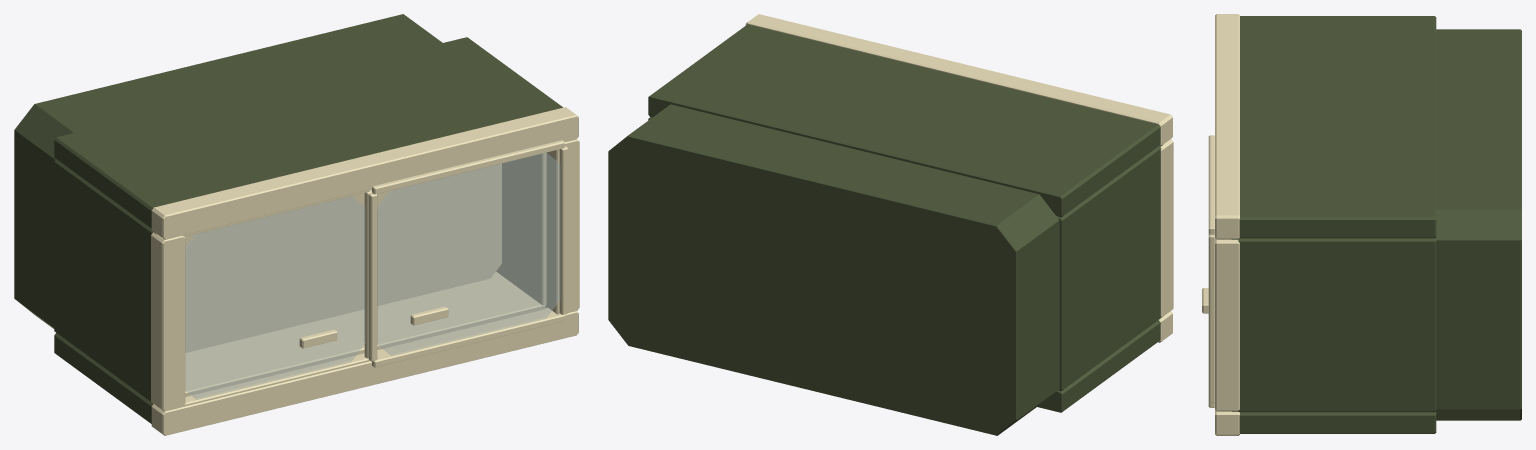
File: fixture_08_glass_top_freezer.glb
3 views of the same model, side by side, from view 1: azimuth 30°, elevation 25°; view 2: azimuth 150°, elevation 25°; view 3: azimuth 270°, elevation 25° (orthographic).
Parts seen in each view (by area): view 1: fixture_08_glass_top_freezer; view 2: fixture_08_glass_top_freezer; view 3: fixture_08_glass_top_freezer.
Boxes of the visible parts, x1=… form: fixture_08_glass_top_freezer: x1=14, y1=14, x2=579, y2=435; fixture_08_glass_top_freezer: x1=608, y1=14, x2=1173, y2=435; fixture_08_glass_top_freezer: x1=1202, y1=14, x2=1521, y2=435.
Size of what is drawn, in the model's own units: 1.41 by 0.724 by 0.933.
